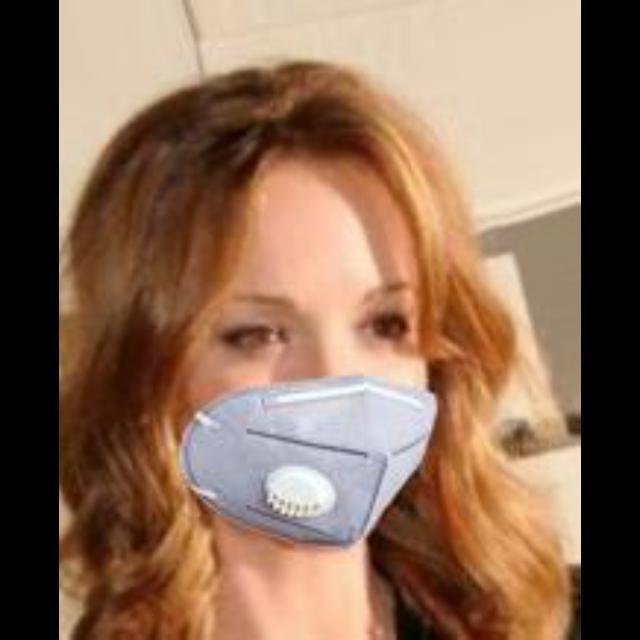suspicion: (143, 102, 460, 558)
